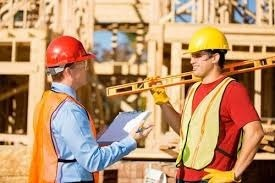helmet: (43, 33, 98, 72), (181, 24, 232, 56)
person with full safety: (173, 25, 265, 182), (29, 33, 103, 182)
safety vest: (33, 92, 99, 180), (180, 81, 229, 168)
